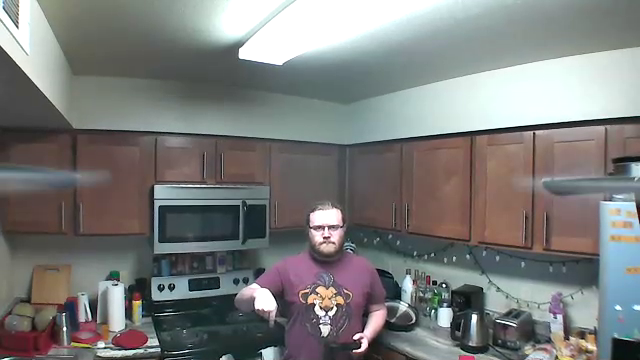down: (250, 282, 281, 329)
